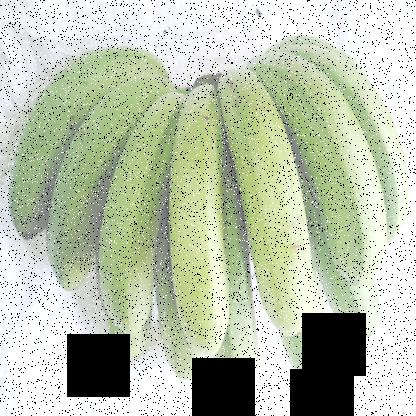freshunripe: (270, 42, 380, 294), (98, 78, 196, 339)
unripe: (221, 42, 318, 348), (6, 34, 119, 253), (41, 70, 142, 300), (164, 66, 228, 360), (202, 263, 262, 408), (282, 328, 336, 400)
